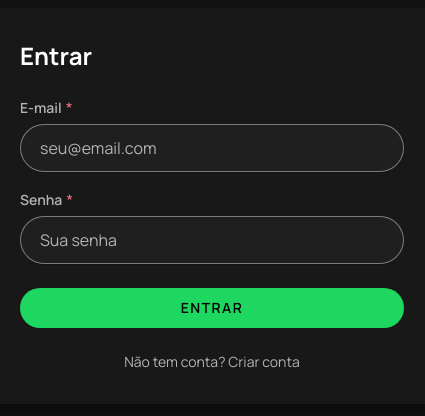
Test case: LoginForm › shows generic error on unexpected failure
Type "x@x.com" into the field labelled "E-mail" at (212, 148), box [20, 124, 404, 172]
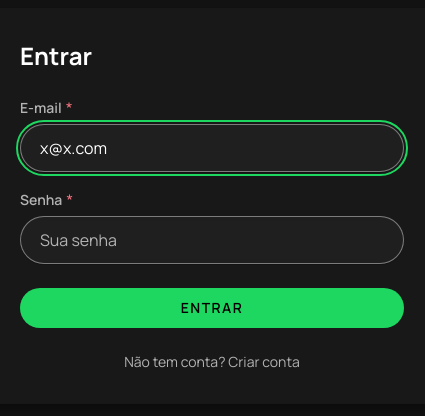
Type "wrongpass" into the password field labelled "Senha" at (212, 240), box [20, 216, 404, 264]
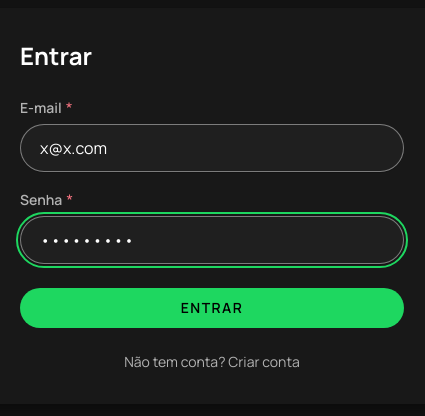
Click the button "Entrar" at (212, 308), box [20, 288, 404, 328]
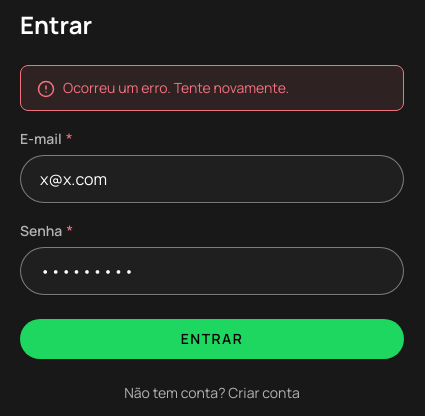
Expected: the text "Ocorreu um erro. Tente novamente." is shown, [63, 78, 289, 97]
